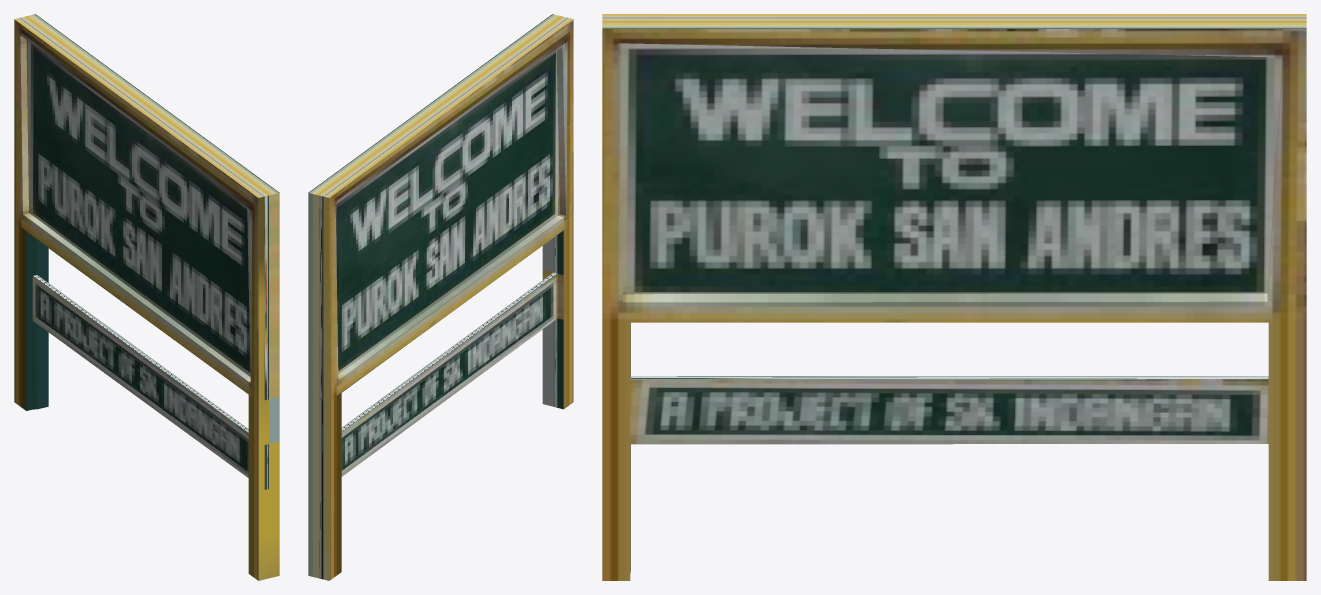
File: smol arc.fbx
The picture shows the model from 3 angles, left to right: view 1: azimuth 30°, elevation 25°; view 2: azimuth 150°, elevation 25°; view 3: azimuth 270°, elevation 25°; orthographic projection. The views are drawn at different scales.
Visible parts, largest first — view 1: Cube; view 2: Cube; view 3: Cube.
Part boxes in pixels (x1,y1,x2,y2): Cube: (14, 14, 279, 580); Cube: (308, 14, 573, 580); Cube: (602, 14, 1306, 580).
Size of the model in its own units: 43.37 by 745 by 861.
Materials: 1 (1 with a texture image).
